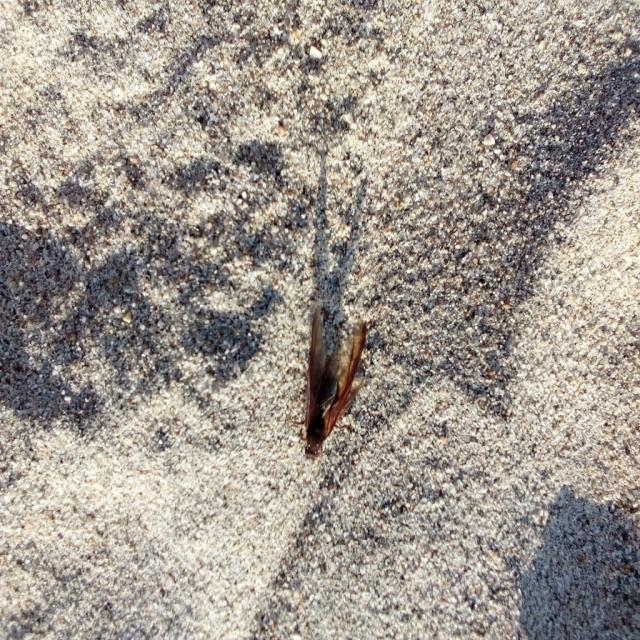Alive-Female-Alate: (283, 306, 367, 464)
